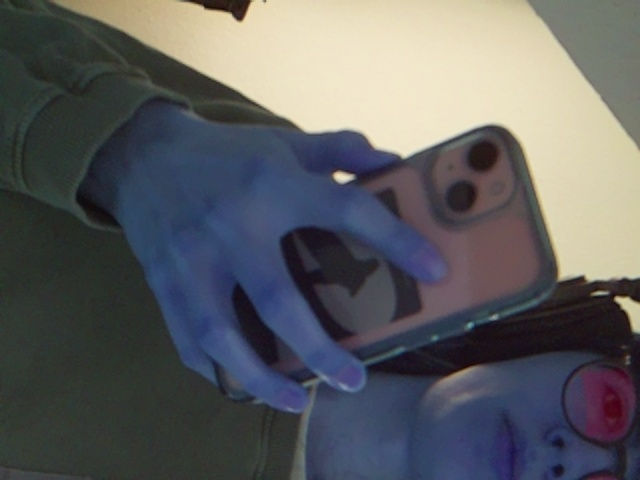cell phone: (208, 121, 536, 402)
